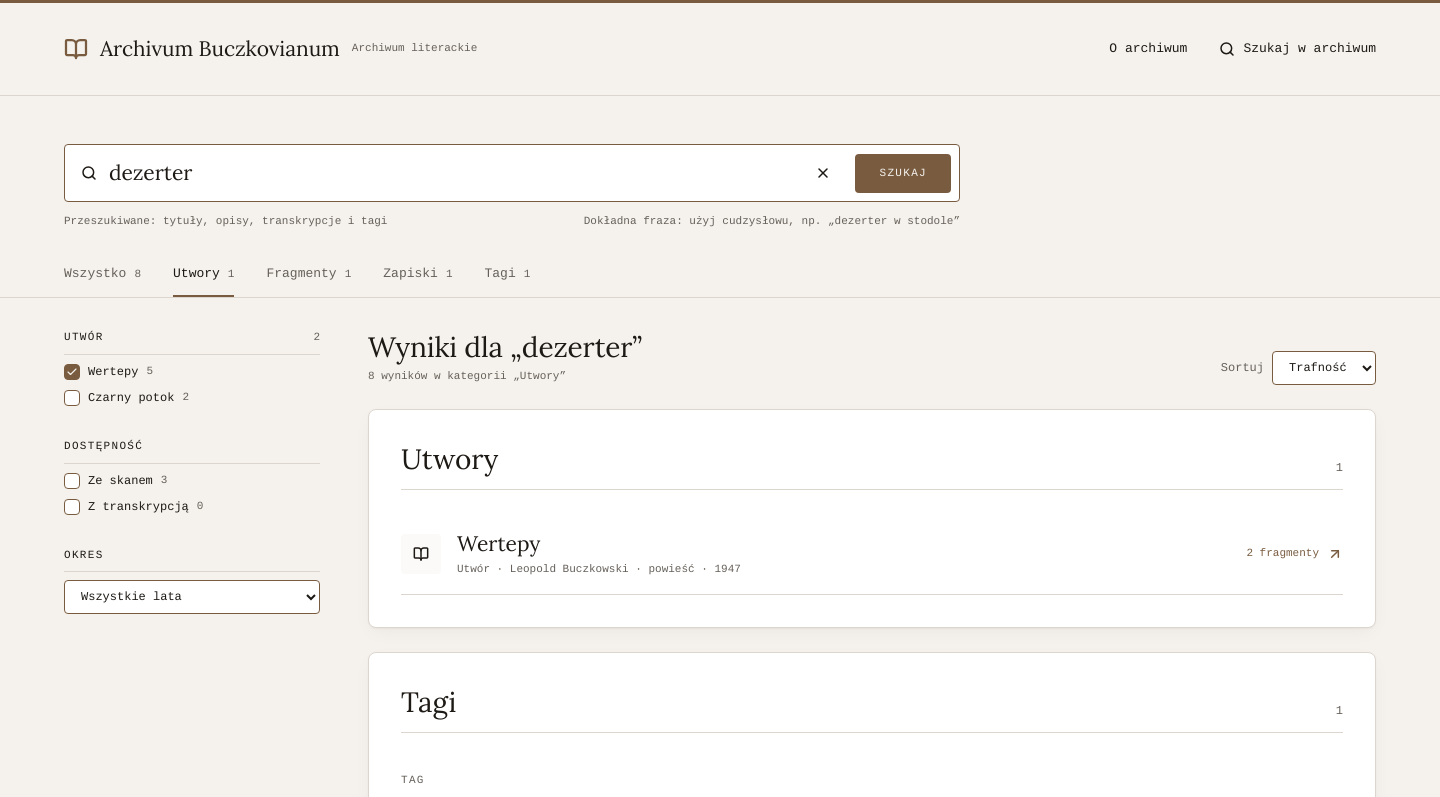
SearchPage tabs and filters › US-RA-16 AC4: a search from the header's field starts afresh
Expected: the text "8 wyników w kategorii „Utwory”" is shown, 368,370 -> 566,382
Type "potok" into the dropdown with placeholder "Szukaj w archiwum". click: point(1310, 49)
box: 1243,41 -> 1376,58
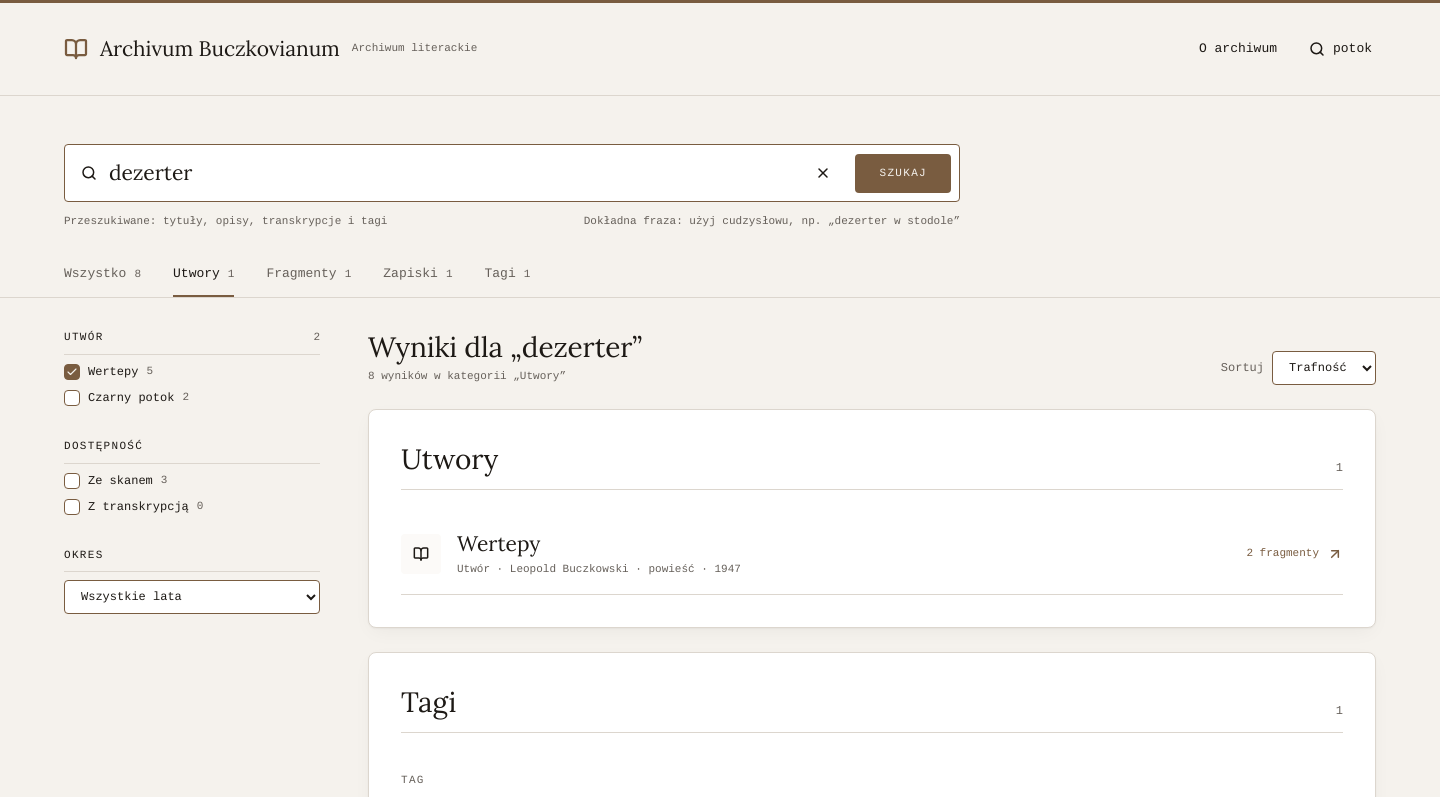
Submit the form named "Szukaj w archiwum", box 1309,41 -> 1376,58
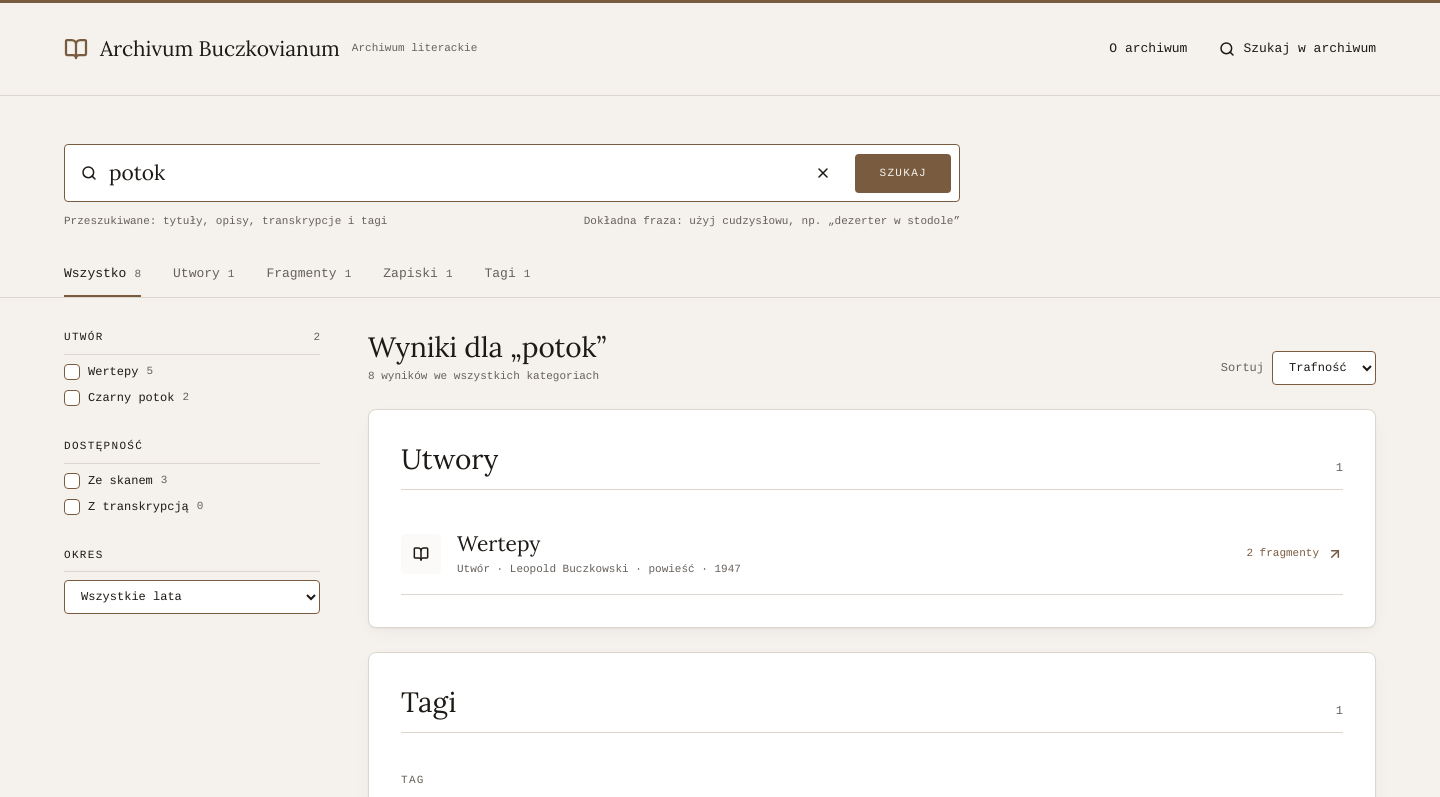
Expected: the text "8 wyników we wszystkich kategoriach" is shown, 368,369 -> 606,385
